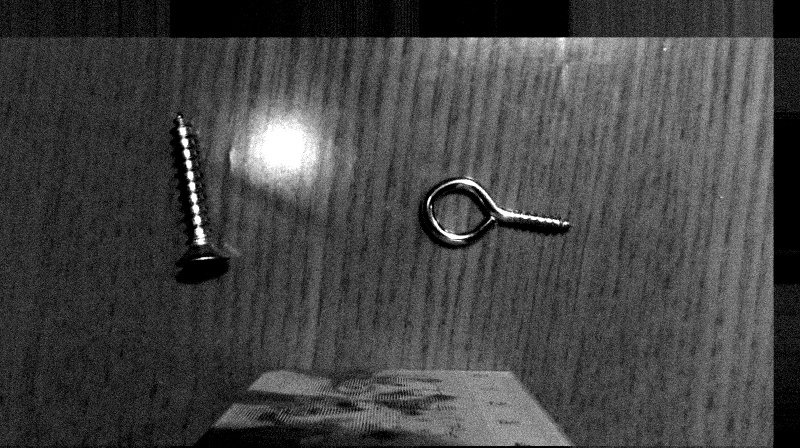O001: (415, 173, 576, 250)
S001: (164, 111, 233, 274)
